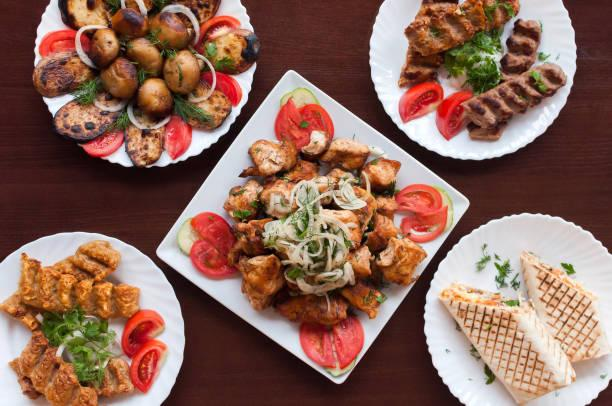Braised Crucian Carp: (157, 70, 458, 382), (421, 212, 612, 406), (33, 0, 252, 168), (369, 1, 574, 162), (0, 230, 184, 405)
